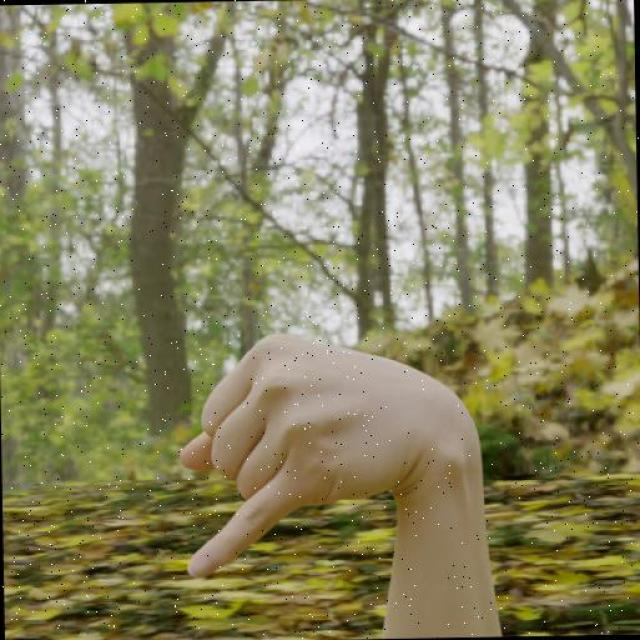J: (146, 281, 519, 600)
